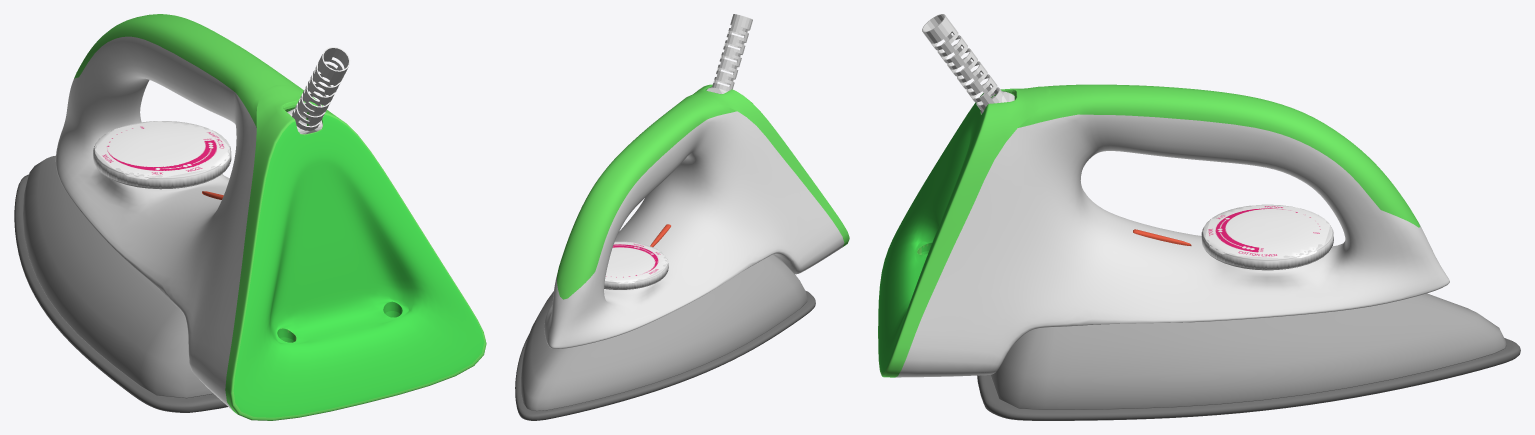
File: Clothes Iron.fbx
3 views of the same model, side by side, from view 1: azimuth 30°, elevation 25°; view 2: azimuth 150°, elevation 25°; view 3: azimuth 270°, elevation 25° (orthographic). The views are drawn at different scales.
Parts seen in each view (by area): view 1: BODY-BACK, BODY, BODY-IRON, Adj Label, Sole Plate, Cord-Protector, ADJUSTMENT; view 2: BODY, BODY-IRON, Sole Plate, BODY-BACK, Adj Label, Cord-Protector, ADJUSTMENT; view 3: BODY, BODY-IRON, BODY-BACK, Sole Plate, Adj Label, Cord-Protector, ADJUSTMENT.
Part boxes in pixels (x1,y1,x2,y2): BODY-BACK: (225, 84, 486, 420); BODY: (55, 14, 303, 410); BODY-IRON: (23, 155, 213, 398); Adj Label: (94, 121, 229, 179); Sole Plate: (14, 174, 227, 412); Cord-Protector: (287, 47, 350, 134); ADJUSTMENT: (93, 121, 231, 189); BODY: (544, 96, 844, 348); BODY-IRON: (521, 254, 807, 411); Sole Plate: (515, 290, 815, 420); BODY-BACK: (687, 84, 849, 246); Adj Label: (605, 241, 668, 283); Cord-Protector: (706, 14, 752, 93); ADJUSTMENT: (604, 241, 668, 289); BODY: (895, 84, 1449, 377); BODY-IRON: (991, 293, 1506, 409); BODY-BACK: (878, 86, 1050, 377); Sole Plate: (977, 338, 1520, 420); Adj Label: (1205, 205, 1329, 258); Cord-Protector: (922, 14, 1014, 114); ADJUSTMENT: (1201, 204, 1333, 270).
Bounding box in the file's own units: 105 × 123 × 210.
